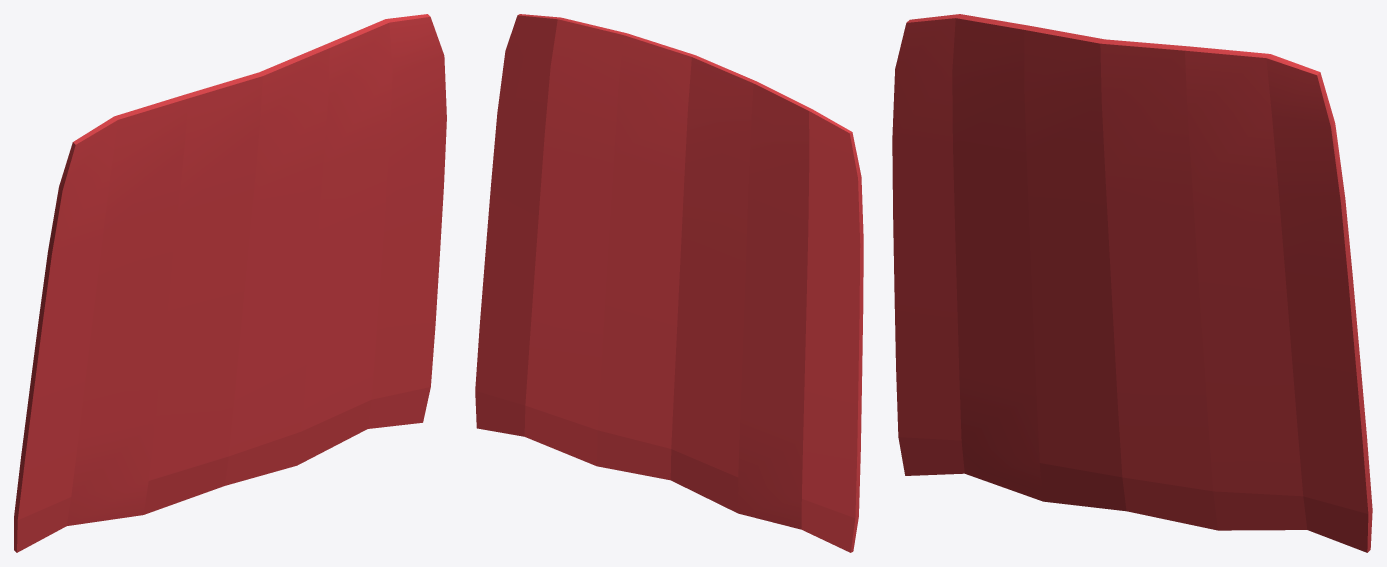
File: cape.fbx
3 views of the same model, side by side, from view 1: azimuth 30°, elevation 25°; view 2: azimuth 150°, elevation 25°; view 3: azimuth 330°, elevation 25° (orthographic). The views are drawn at different scales.
Parts seen in each view (by area): view 1: Cape; view 2: Cape; view 3: Cape.
Boxes of the visible parts, x1,y1,x2,y2 form: Cape: (14,14,446,552); Cape: (475,14,863,552); Cape: (892,14,1372,552).
Bounding box in the file's own units: 165 × 180 × 29.97.
